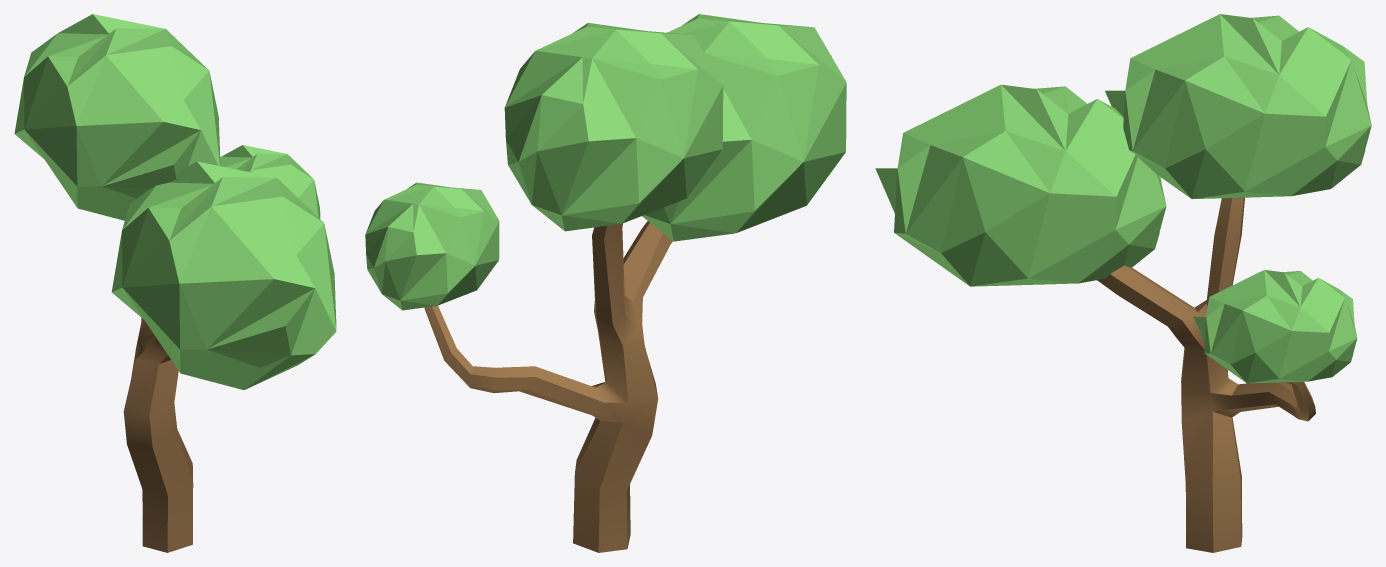
File: tree1.fbx
The picture shows the model from 3 angles, left to right: view 1: azimuth 30°, elevation 25°; view 2: azimuth 150°, elevation 25°; view 3: azimuth 270°, elevation 25°; orthographic projection. The views are drawn at different scales.
Visible parts, largest first — view 1: pCube3, pCube2, stem_1:pCylinder1, gress_2:pCube1; view 2: pCube2, pCube3, stem_1:pCylinder1, gress_2:pCube1; view 3: pCube3, pCube2, stem_1:pCylinder1, gress_2:pCube1.
Part boxes in pixels (x1,y1,x2,y2): pCube3: (111,161,336,389); pCube2: (14,14,220,220); stem_1:pCylinder1: (123,317,193,552); gress_2:pCube1: (220,145,320,218); pCube2: (504,23,723,231); pCube3: (642,14,846,241); stem_1:pCylinder1: (424,221,672,552); gress_2:pCube1: (365,182,499,310); pCube3: (875,84,1166,286); pCube2: (1105,14,1371,199); stem_1:pCylinder1: (1097,197,1315,552); gress_2:pCube1: (1194,270,1357,383).
Bounding box in the file's own units: 10.93 × 17.88 × 15.72.
